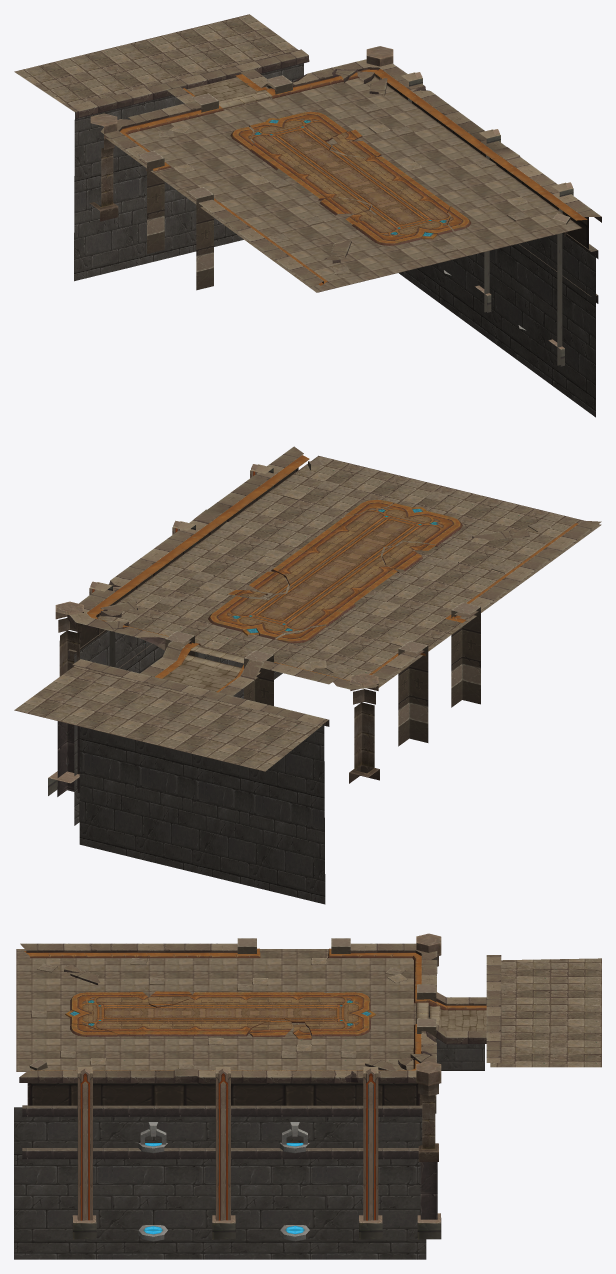
File: terrain_section03_guanka1101.FBX
3 views of the same model, one above another, from view 1: azimuth 30°, elevation 25°; view 2: azimuth 150°, elevation 25°; view 3: azimuth 270°, elevation 25° (orthographic). The views are drawn at different scales.
Visible parts, largest first — view 1: terrain_section03_guanka1101; view 2: terrain_section03_guanka1101; view 3: terrain_section03_guanka1101.
Boxes of the visible parts, left/top/right/bottom form: terrain_section03_guanka1101: left=14, top=14, right=601, bottom=417; terrain_section03_guanka1101: left=14, top=446, right=601, bottom=904; terrain_section03_guanka1101: left=14, top=933, right=601, bottom=1259.
Size of the model in its own units: 30.87 by 19.41 by 53.23.
